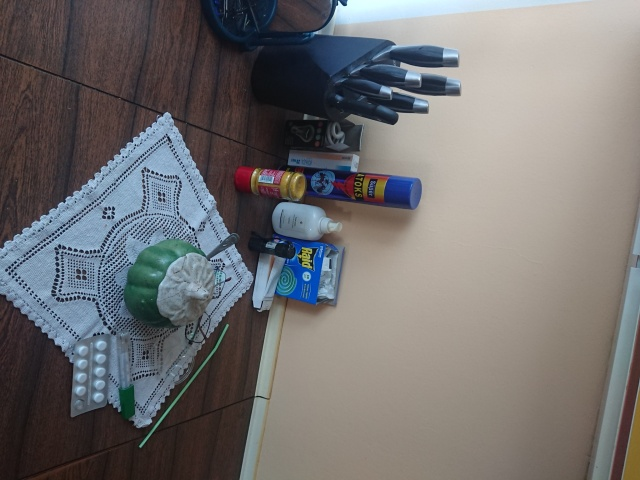Kotanyi Curry Spices Mix 70g: (231, 163, 309, 204)
